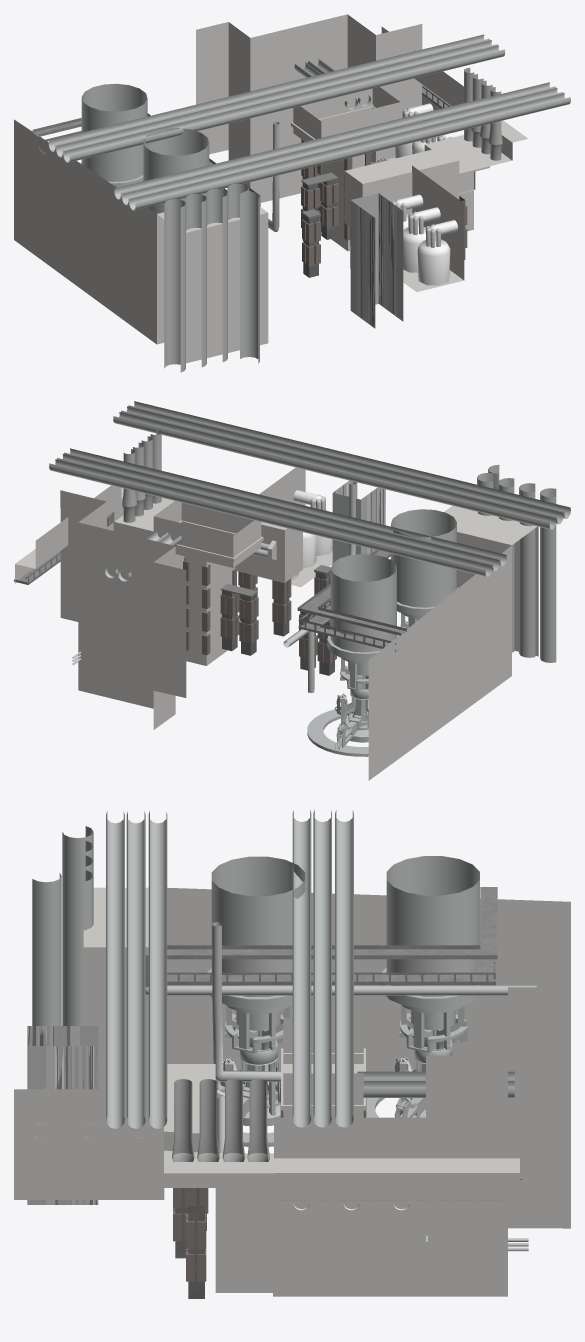
Rendered from 2-nd lvl.fbx.
3 renders of one model, top to bottom at view 1: azimuth 30°, elevation 25°; view 2: azimuth 150°, elevation 25°; view 3: azimuth 270°, elevation 25°, orthographic. The views are drawn at different scales.
Visible parts, largest first — view 1: 2_low, 16_low, 1_low, 12_low, 8_low, 13_low, 11_low, Cube.052, 6_low, 15_low, 14_low, 5_low (+2 smaller); view 2: 2_low, 16_low, 1_low, 11_low, 12_low, 8_low, 13_low, Cube.052, 14_low, 15_low, 6_low, 4_low (+1 smaller); view 3: 16_low, 1_low, 2_low, 11_low, 12_low, 8_low, 15_low, 13_low, 14_low, Cube.052, 9_low, 7_low (+1 smaller).
Part boxes in pixels (<box>): 2_low: <box>14,113,268,363</box>; 16_low: <box>196,14,475,202</box>; 1_low: <box>260,26,527,277</box>; 12_low: <box>114,82,570,210</box>; 8_low: <box>48,34,505,162</box>; 13_low: <box>164,183,259,372</box>; 11_low: <box>80,83,209,213</box>; Cube.052: <box>350,193,403,328</box>; 6_low: <box>391,194,457,285</box>; 15_low: <box>403,165,464,291</box>; 14_low: <box>464,67,502,160</box>; 5_low: <box>395,103,463,158</box>; 2_low: <box>297,505,538,780</box>; 16_low: <box>60,490,186,729</box>; 1_low: <box>14,485,336,675</box>; 11_low: <box>307,509,457,756</box>; 12_low: <box>113,401,570,529</box>; 8_low: <box>49,448,506,576</box>; 13_low: <box>477,464,556,662</box>; Cube.052: <box>332,480,385,562</box>; 14_low: <box>122,429,161,522</box>; 15_low: <box>257,467,332,587</box>; 6_low: <box>272,490,332,579</box>; 4_low: <box>183,560,236,654</box>; 16_low: <box>273,987,570,1296</box>; 1_low: <box>164,1017,521,1298</box>; 2_low: <box>83,887,570,1089</box>; 11_low: <box>207,856,484,1146</box>; 12_low: <box>106,811,167,1128</box>; 8_low: <box>292,809,353,1127</box>; 15_low: <box>14,1089,164,1199</box>; 13_low: <box>32,826,93,1025</box>; 14_low: <box>172,1079,269,1161</box>; Cube.052: <box>27,1026,98,1204</box>; 9_low: <box>145,985,536,995</box>; 7_low: <box>212,922,280,1082</box>.
Bounding box in the file's own units: 89347 × 34753 × 68703.
1 material, 1 textured.
